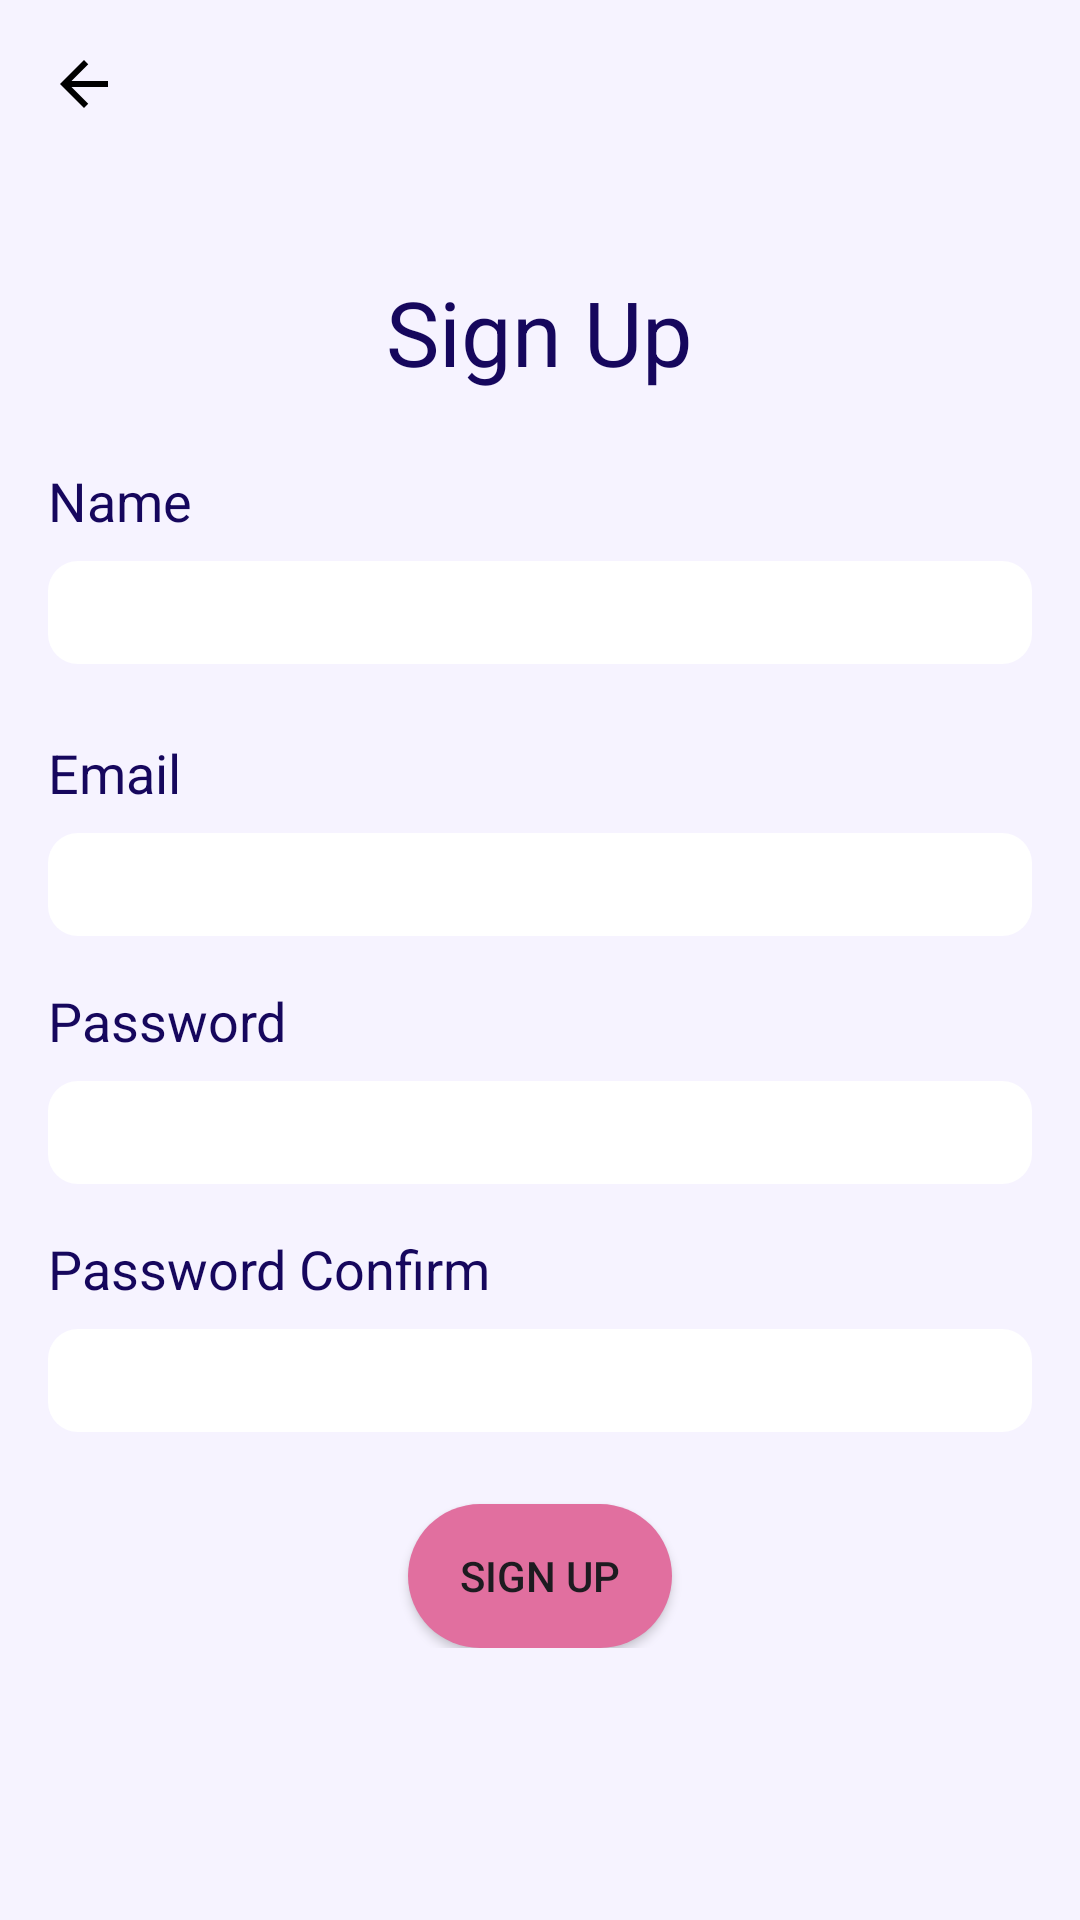

Icon bounding boxes for this 1080px×1920px phone screenshot, format (x1, y1, x2, y2):
back: (60, 60, 108, 108)
